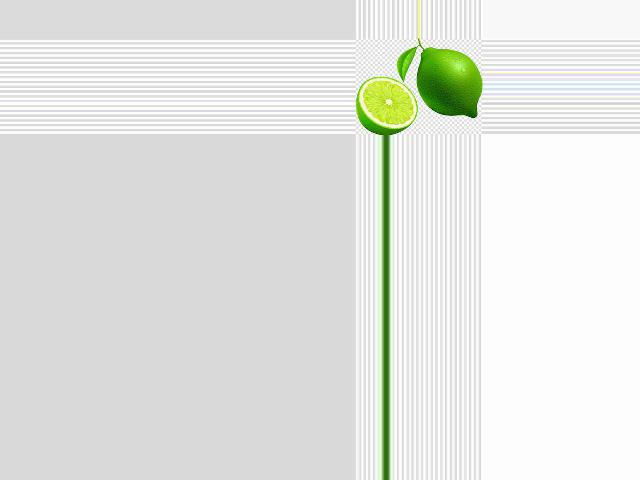lemon: (406, 46, 481, 120)
